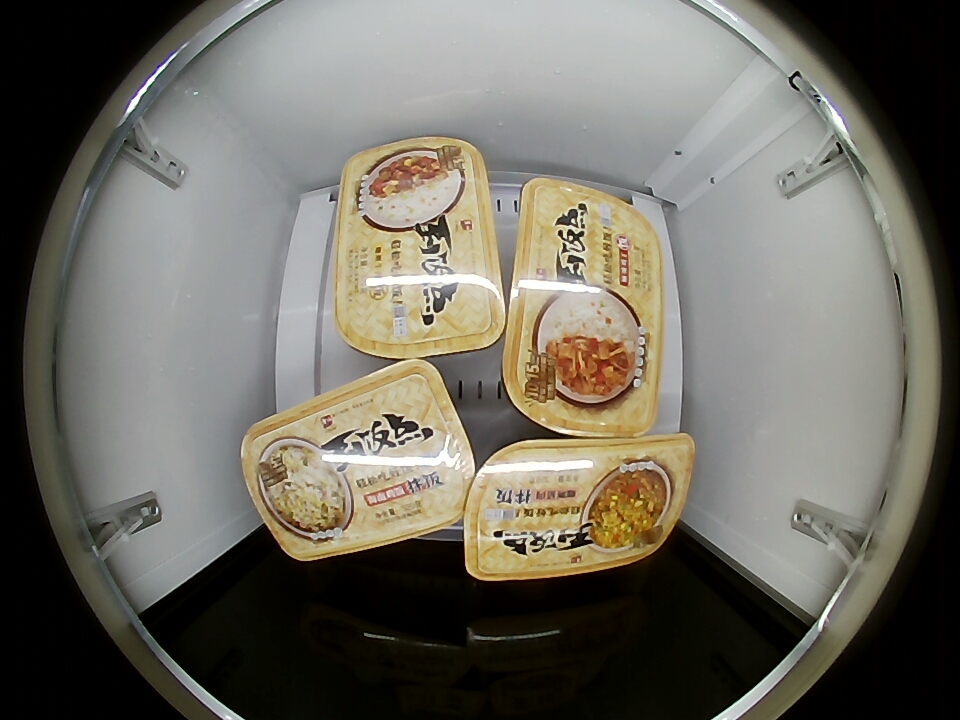daofandian1: (243, 360, 471, 561)
daofandian2: (331, 135, 503, 360)
daofandian3: (462, 435, 694, 581)
daofandian4: (502, 176, 666, 437)
